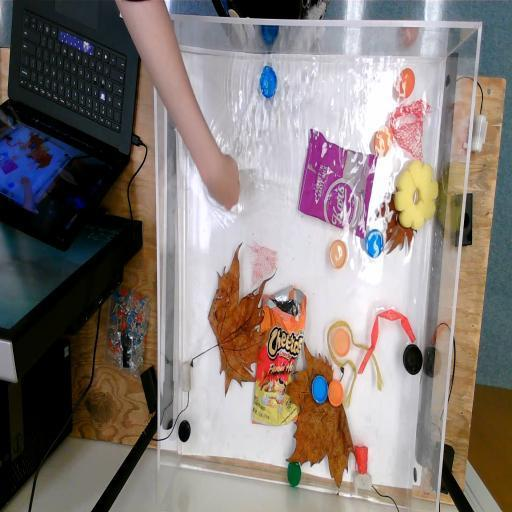Bottle Cap: (402, 341, 424, 378), (260, 64, 278, 100), (396, 66, 416, 98), (374, 124, 392, 158), (329, 238, 347, 271), (365, 228, 384, 258), (312, 374, 328, 404), (334, 328, 350, 358), (328, 380, 344, 408), (286, 461, 302, 487), (178, 418, 192, 443)
Cone Cap: (354, 444, 370, 476)
Leaf: (190, 241, 278, 399), (283, 339, 356, 489), (374, 184, 418, 256)
Netting: (388, 100, 434, 164), (249, 240, 279, 286)
Plastic Bag: (298, 128, 378, 240), (250, 284, 308, 427)
Plastic Strand: (326, 320, 385, 408), (357, 308, 417, 376)
Sponge: (394, 160, 439, 232)
